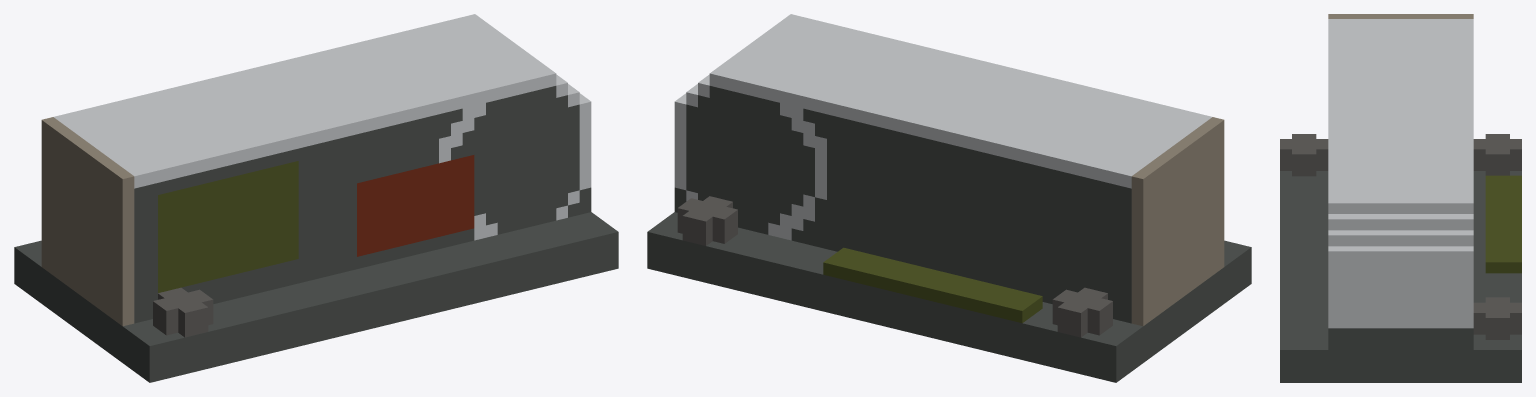
File: anvil_scavenged.glb
The picture shows the model from 3 angles, left to right: view 1: azimuth 30°, elevation 25°; view 2: azimuth 150°, elevation 25°; view 3: azimuth 270°, elevation 25°; orthographic projection. The views are drawn at different scales.
Visible parts, largest first — view 1: anvil_scavenged:compound; view 2: anvil_scavenged:compound; view 3: anvil_scavenged:compound.
Boxes of the visible parts, bbox=[...] form: anvil_scavenged:compound: bbox=[14, 14, 618, 382]; anvil_scavenged:compound: bbox=[647, 14, 1251, 382]; anvil_scavenged:compound: bbox=[1280, 14, 1521, 382].
Bounding box in the file's own units: 0.4 × 0.15 × 0.2.
